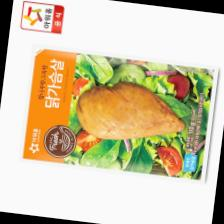chicken: (72, 75, 188, 148)
